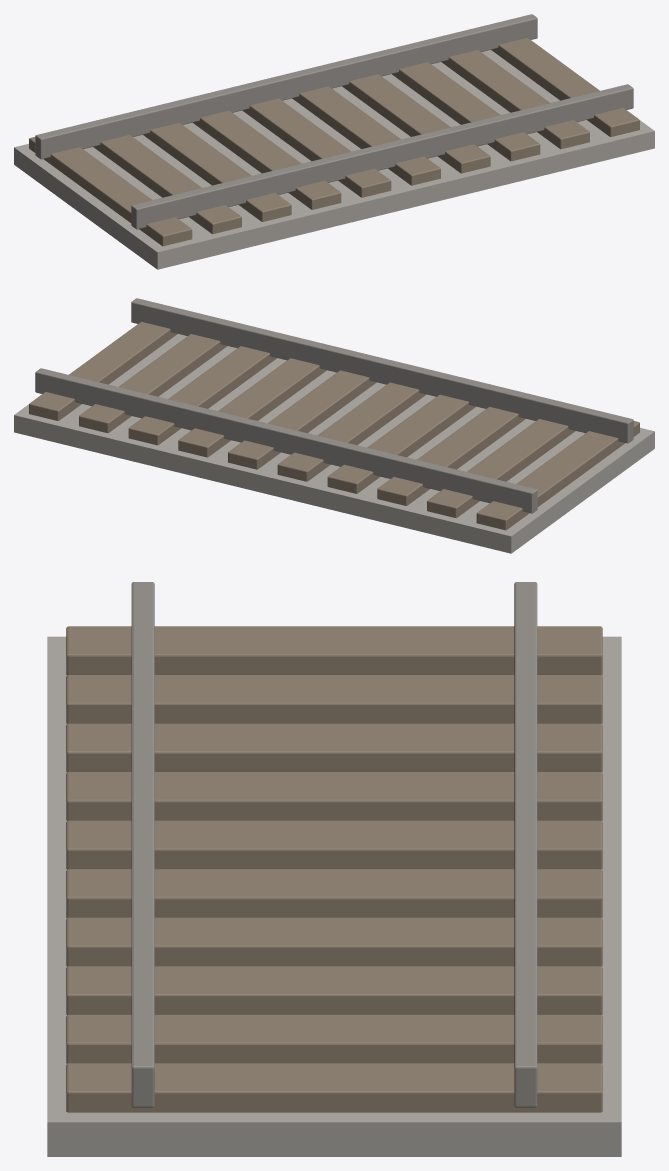
The model's file is rail_track.glb.
3 renders of one model, top to bottom at view 1: azimuth 30°, elevation 25°; view 2: azimuth 150°, elevation 25°; view 3: azimuth 270°, elevation 25°, orthographic. The views are drawn at different scales.
Visible parts, largest first — view 1: track_ballast, rail0.5, rail-0.5, tie0, tie4, tie1, tie7, tie6, tie3, tie5, tie9, tie2 (+1 smaller); view 2: track_ballast, rail-0.5, rail0.5, tie0, tie4, tie1, tie7, tie6, tie3, tie5, tie9, tie2 (+1 smaller); view 3: track_ballast, tie9, tie8, tie6, tie0, tie1, tie3, tie5, tie7, tie2, tie4, rail-0.5 (+1 smaller).
Part boxes in pixels (x1=…): track_ballast: x1=14, y1=50, x2=654, y2=269; rail0.5: x1=35, y1=14, x2=537, y2=159; rail-0.5: x1=131, y1=84, x2=633, y2=229; tie0: x1=29, y1=137, x2=192, y2=246; tie4: x1=242, y1=98, x2=391, y2=197; tie1: x1=93, y1=135, x2=241, y2=234; tie7: x1=392, y1=62, x2=540, y2=161; tie6: x1=342, y1=74, x2=490, y2=173; tie3: x1=193, y1=110, x2=341, y2=209; tie5: x1=292, y1=86, x2=440, y2=185; tie9: x1=491, y1=38, x2=639, y2=136; tie2: x1=143, y1=122, x2=291, y2=221; track_ballast: x1=14, y1=334, x2=654, y2=553; rail-0.5: x1=131, y1=298, x2=633, y2=443; rail0.5: x1=35, y1=368, x2=537, y2=513; tie0: x1=476, y1=421, x2=639, y2=530; tie4: x1=277, y1=382, x2=426, y2=481; tie1: x1=427, y1=419, x2=575, y2=518; tie7: x1=128, y1=346, x2=276, y2=445; tie6: x1=178, y1=358, x2=326, y2=457; tie3: x1=327, y1=394, x2=475, y2=493; tie5: x1=228, y1=370, x2=376, y2=469; tie9: x1=29, y1=322, x2=177, y2=420; tie2: x1=377, y1=406, x2=525, y2=505; track_ballast: x1=47, y1=636, x2=621, y2=1156; tie9: x1=66, y1=1063, x2=602, y2=1112; tie8: x1=66, y1=1014, x2=602, y2=1063; tie6: x1=66, y1=917, x2=602, y2=966; tie0: x1=66, y1=626, x2=602, y2=675; tie1: x1=66, y1=675, x2=602, y2=723; tie3: x1=66, y1=772, x2=602, y2=820; tie5: x1=66, y1=869, x2=602, y2=917; tie7: x1=66, y1=966, x2=602, y2=1014; tie2: x1=66, y1=723, x2=602, y2=772; tie4: x1=66, y1=820, x2=602, y2=869; rail-0.5: x1=131, y1=582, x2=154, y2=1107.
Bounding box in the file's own units: 3 × 0.2599 × 1.5.
